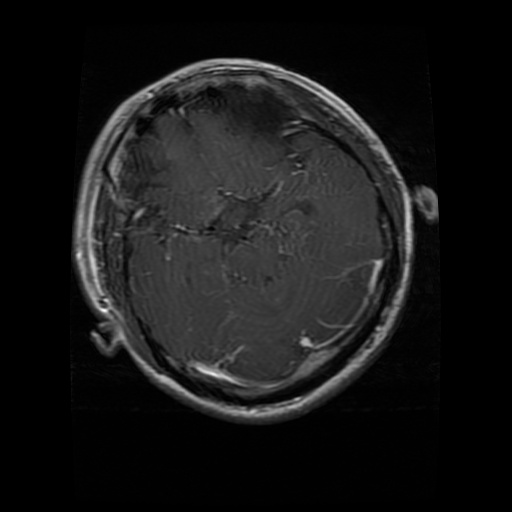glioma: (208, 195, 262, 246)
